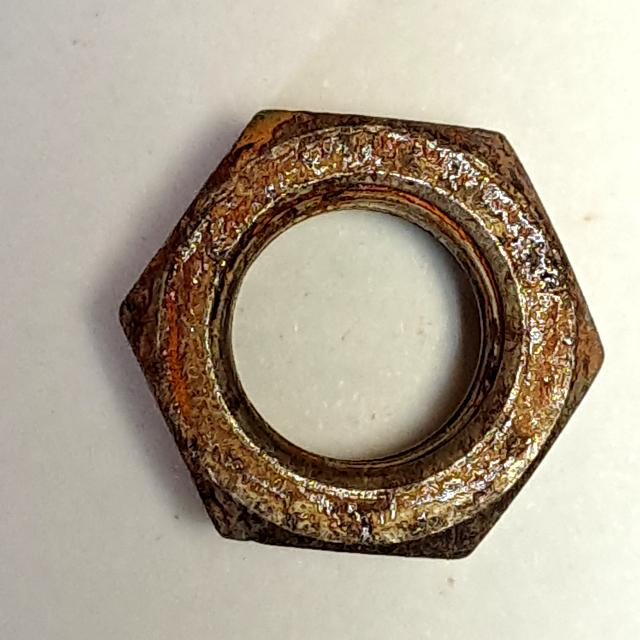Rust: (100, 89, 625, 578)
